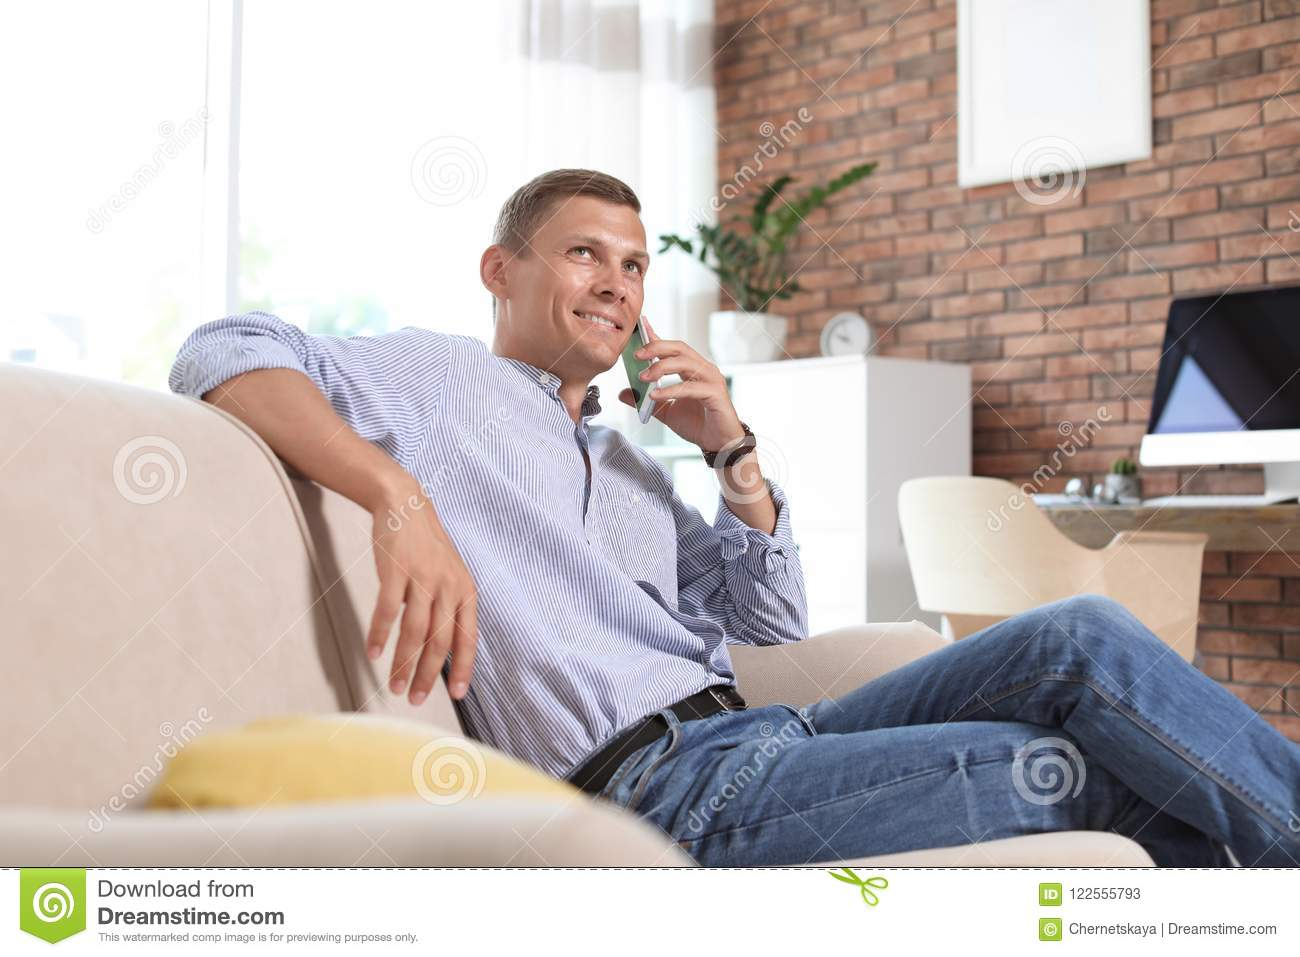phone: (620, 316, 668, 423)
talk: (544, 224, 739, 447)
